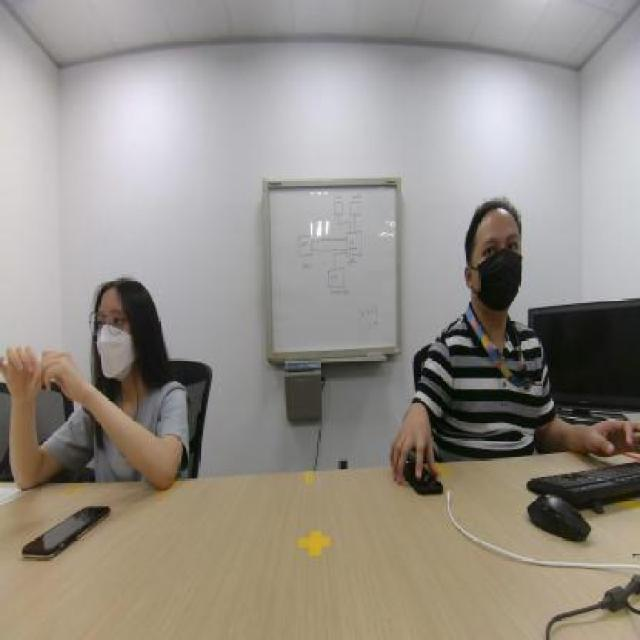Person: (13, 237, 210, 469), (430, 157, 568, 460)
